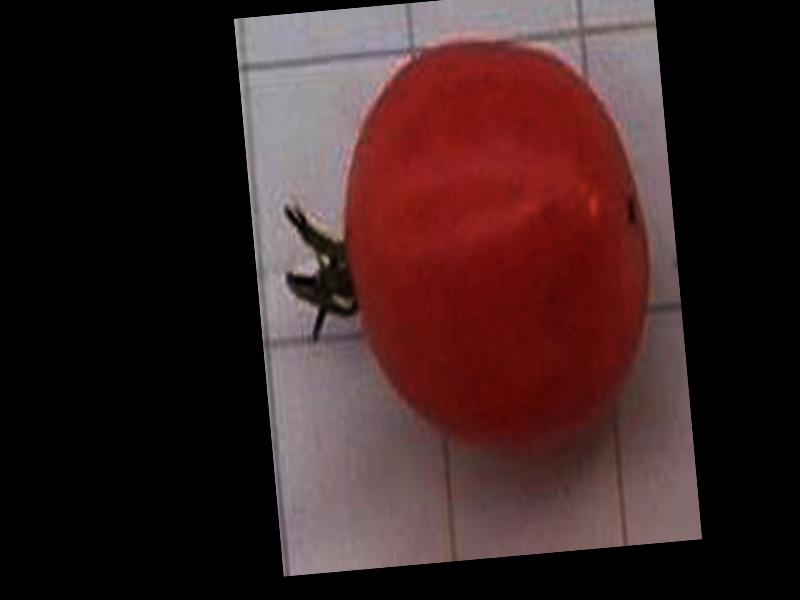Tomato: (330, 28, 665, 462)
